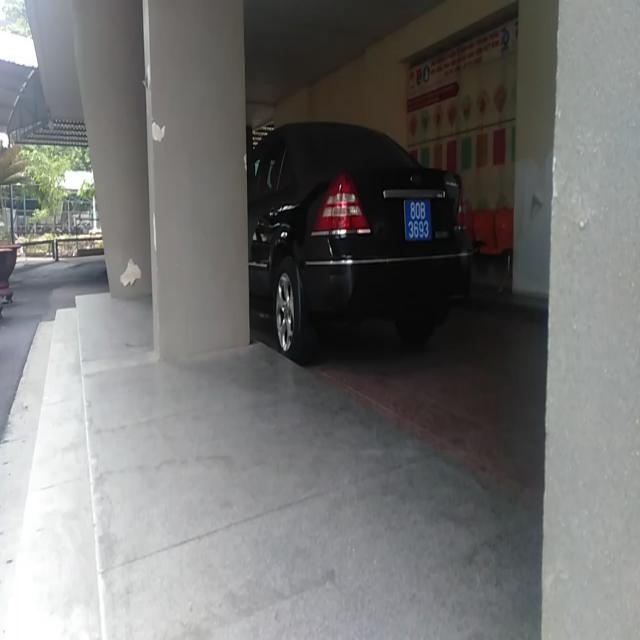bien_xanh: (402, 192, 434, 246)
